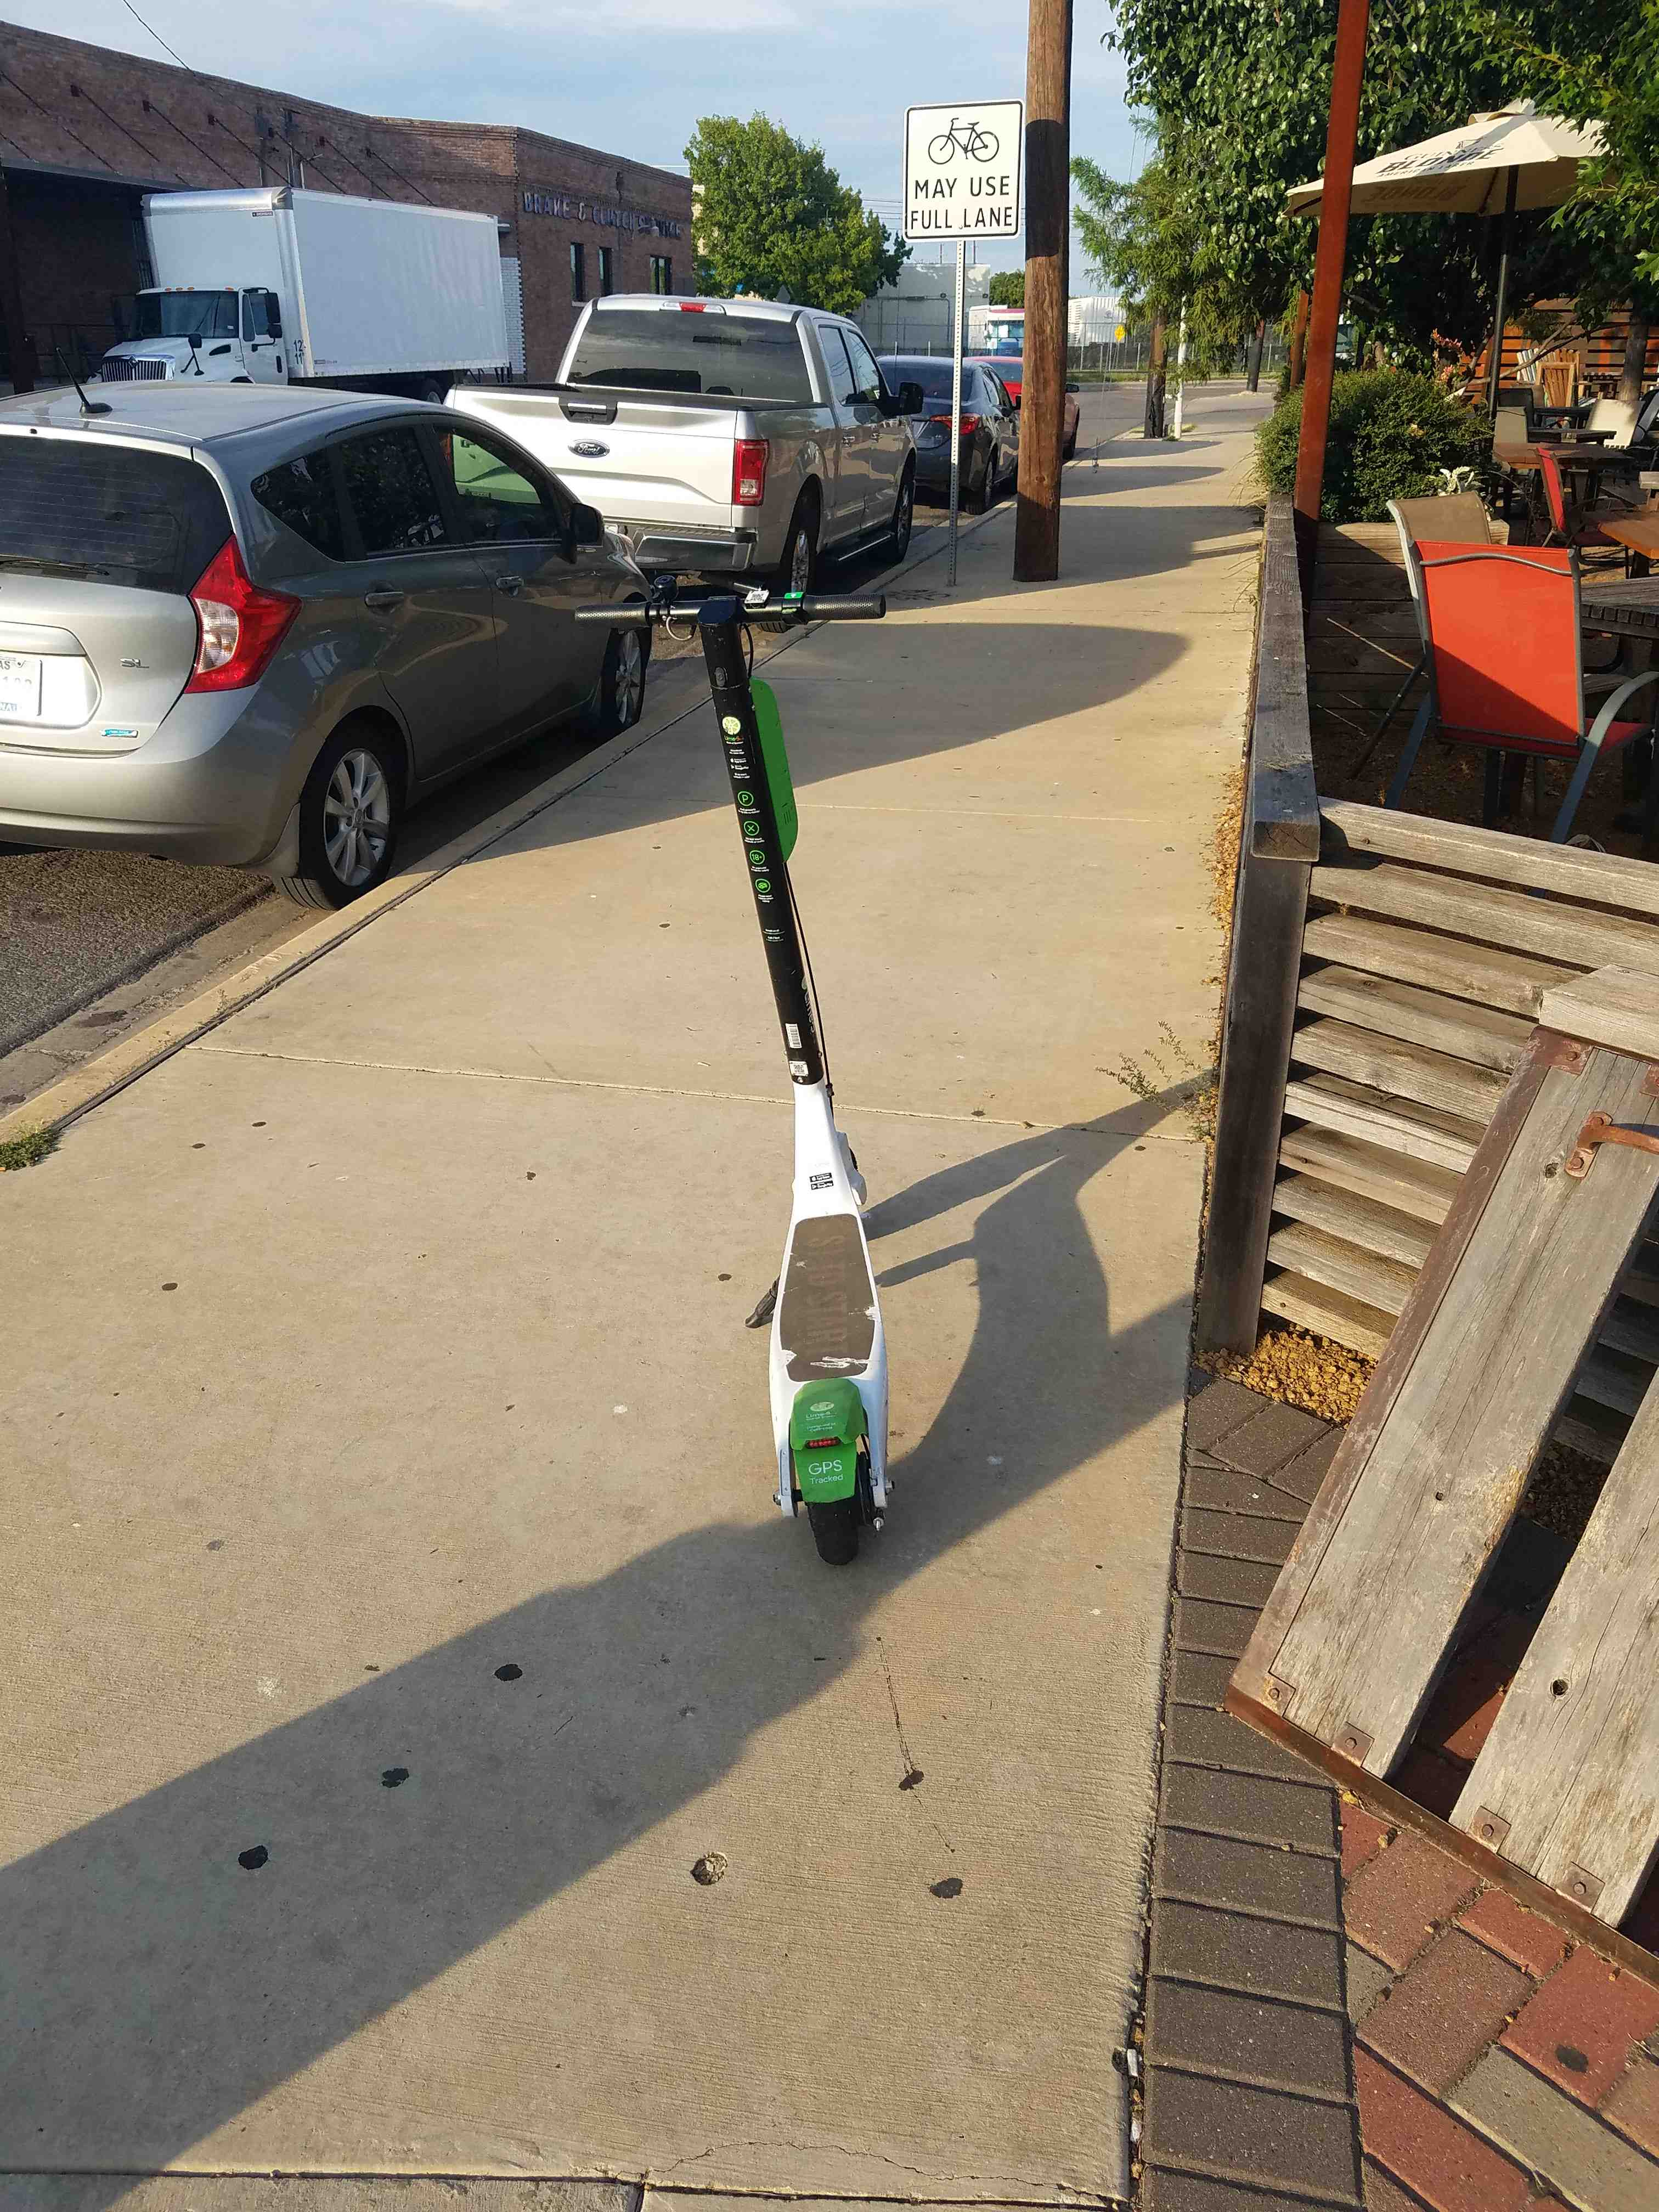scooter: (523, 547, 938, 1585)
